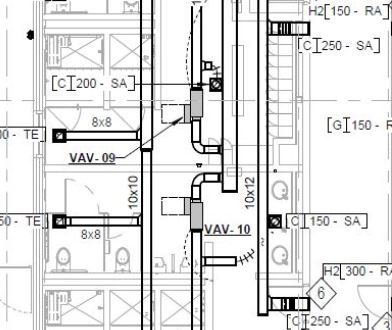VAV: (183, 81, 212, 126), (183, 187, 208, 232)
